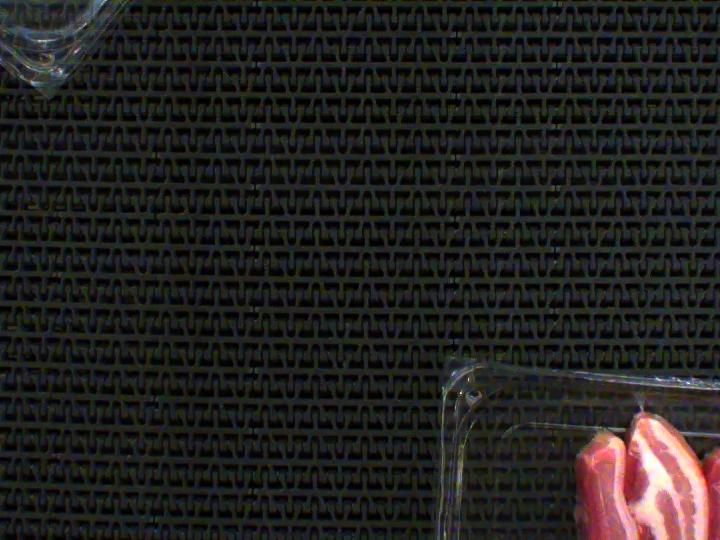packaging-error: (628, 386, 658, 419)
